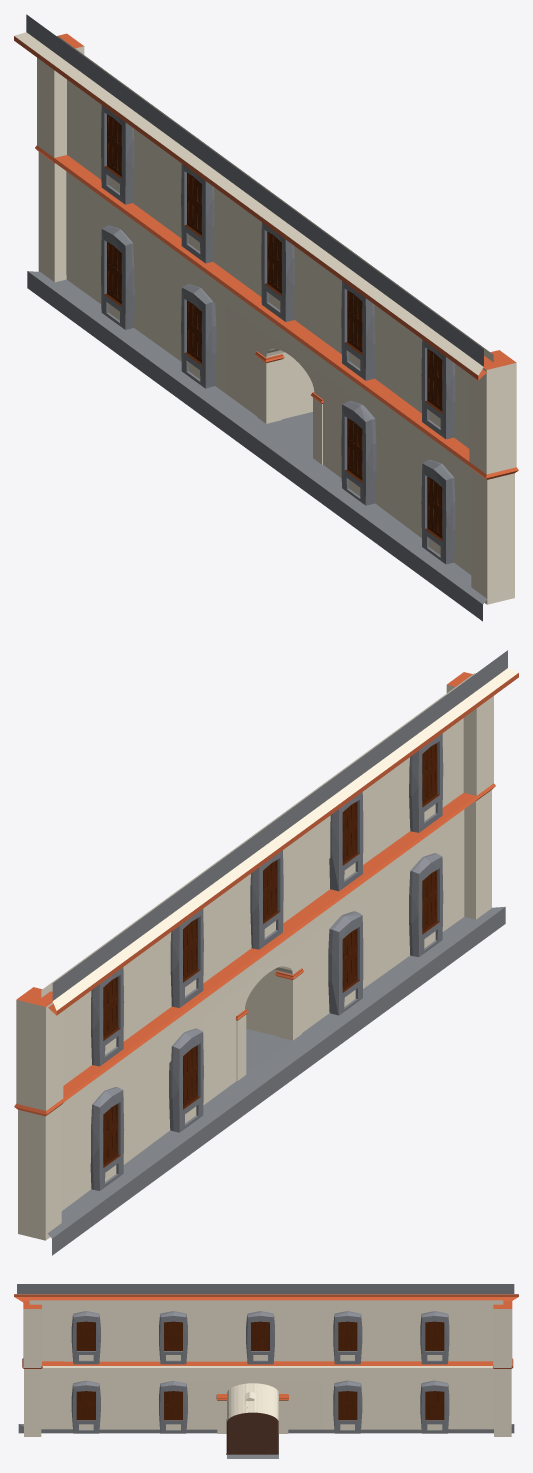
File: conservatorio.glb
3 renders of one model, top to bottom at view 1: azimuth 30°, elevation 25°; view 2: azimuth 150°, elevation 25°; view 3: azimuth 270°, elevation 25°, orthographic. The views are drawn at different scales.
Visible parts, largest first — view 1: estructura, ventanas, entrada; view 2: estructura, ventanas, entrada; view 3: estructura, ventanas, puerta, entrada.
Part boxes in pixels (x1,y1,x2,y2): estructura: [14, 14, 518, 621]; ventanas: [101, 105, 455, 564]; entrada: [255, 351, 323, 464]; estructura: [14, 650, 518, 1255]; ventanas: [90, 733, 443, 1190]; entrada: [235, 968, 304, 1081]; estructura: [14, 1284, 518, 1458]; ventanas: [71, 1311, 449, 1433]; puerta: [226, 1407, 278, 1454]; entrada: [216, 1394, 288, 1433].
Bounding box in the file's own units: 23.71 × 43.67 × 134.
